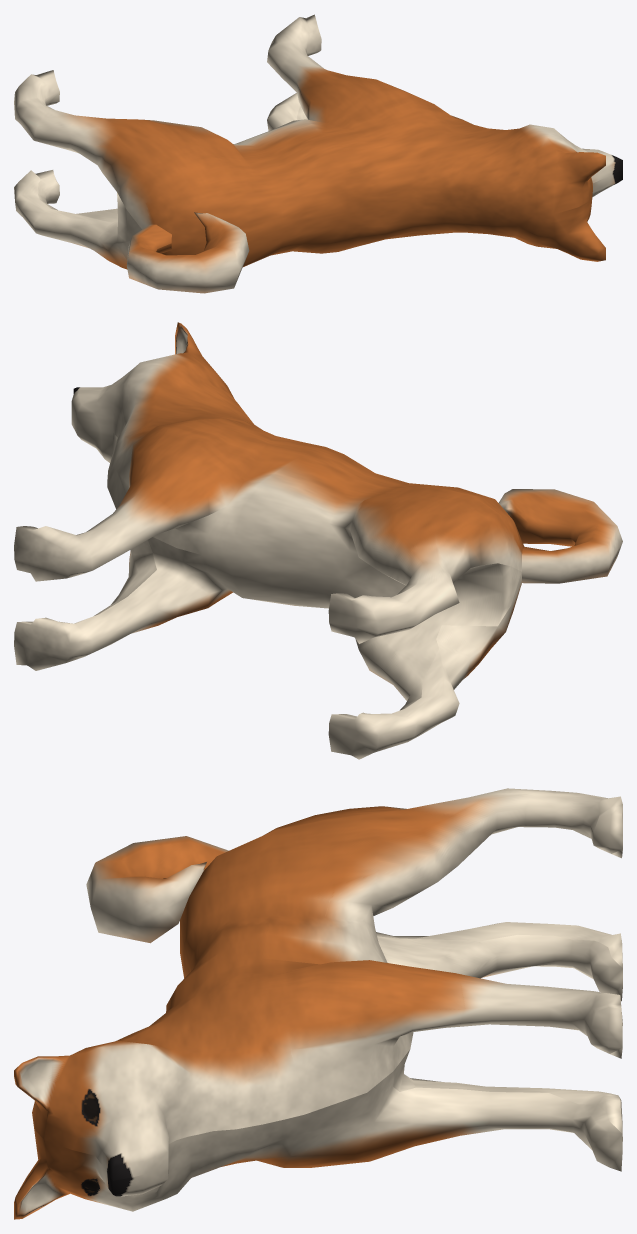
Rendered from dog_shiba.obj.
The picture shows the model from 3 angles, top to bottom: view 1: azimuth 30°, elevation 25°; view 2: azimuth 150°, elevation 25°; view 3: azimuth 270°, elevation 25°; orthographic projection. The views are drawn at different scales.
Visible parts, largest first — view 1: dog_shiba; view 2: dog_shiba; view 3: dog_shiba.
Part boxes in pixels (bbox=[...]): dog_shiba: bbox=[14, 14, 622, 293]; dog_shiba: bbox=[14, 322, 622, 759]; dog_shiba: bbox=[14, 788, 622, 1219].
Bounding box in the file's own units: 0.6723 × 0.1824 × 0.5271.
1 material, 1 textured.
